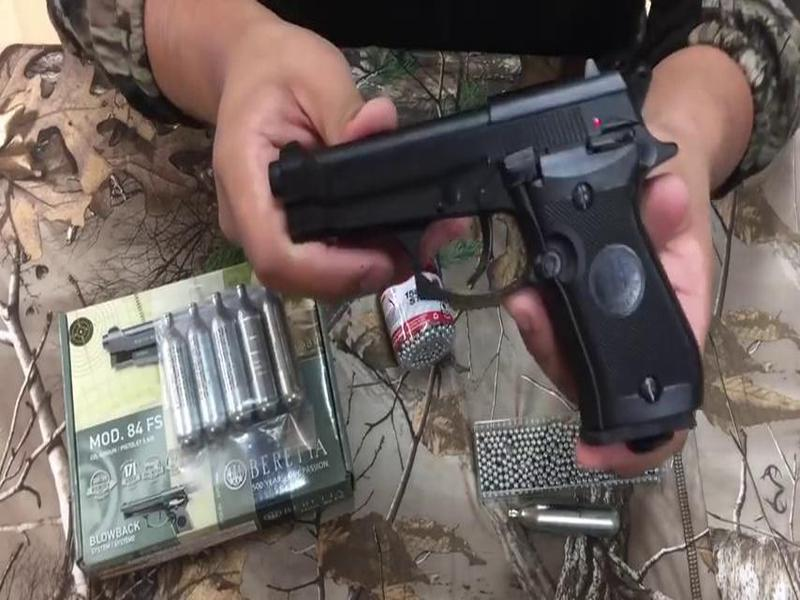Pistola: (222, 51, 712, 482)
